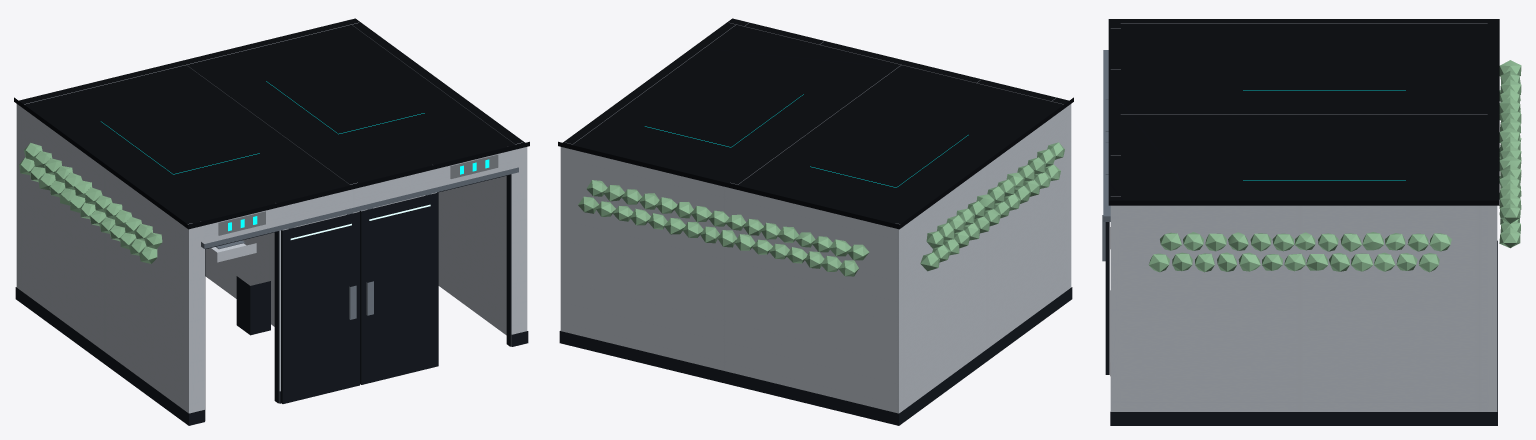
3 renders of one model, left to right at view 1: azimuth 30°, elevation 25°; view 2: azimuth 150°, elevation 25°; view 3: azimuth 270°, elevation 25°, orthographic. The views are drawn at different scales.
Parts seen in each view (by area): view 1: Roof_Slab, Shell_Walls, Leaf_B_Panel, Leaf_A_Panel, Green_Wall_Band, Base_Band, Door_Jambs, Door_Track, Bin, Sign_Plates, Lavatory; view 2: Shell_Walls, Roof_Slab, Green_Wall_Band, Base_Band; view 3: Shell_Walls, Roof_Slab, Green_Wall_Band, Base_Band, Door_Track, Leaf_B_Panel.
Part boxes in pixels (box(x1,y1,x2,y2)): Roof_Slab: box(14, 18, 529, 229); Shell_Walls: box(16, 22, 527, 413); Leaf_B_Panel: box(359, 192, 438, 384); Leaf_A_Panel: box(281, 212, 359, 403); Green_Wall_Band: box(19, 143, 162, 263); Base_Band: box(15, 287, 528, 425); Door_Jambs: box(205, 174, 511, 420); Door_Track: box(201, 167, 518, 248); Bin: box(236, 276, 270, 335); Sign_Plates: box(218, 154, 498, 235); Lavatory: box(205, 243, 256, 262); Shell_Walls: box(560, 22, 1071, 413); Roof_Slab: box(558, 18, 1073, 229); Green_Wall_Band: box(578, 142, 1064, 276); Base_Band: box(559, 287, 1072, 425); Shell_Walls: box(1110, 23, 1497, 411); Roof_Slab: box(1108, 19, 1499, 205); Green_Wall_Band: box(1149, 60, 1521, 272); Base_Band: box(1110, 227, 1497, 425); Door_Track: box(1103, 50, 1110, 221); Leaf_B_Panel: box(1105, 222, 1109, 374).
Size of what is drawn, in the model's own units: 4.77 by 2.45 by 4.12.
Materials: 12 (5 with a texture image).
